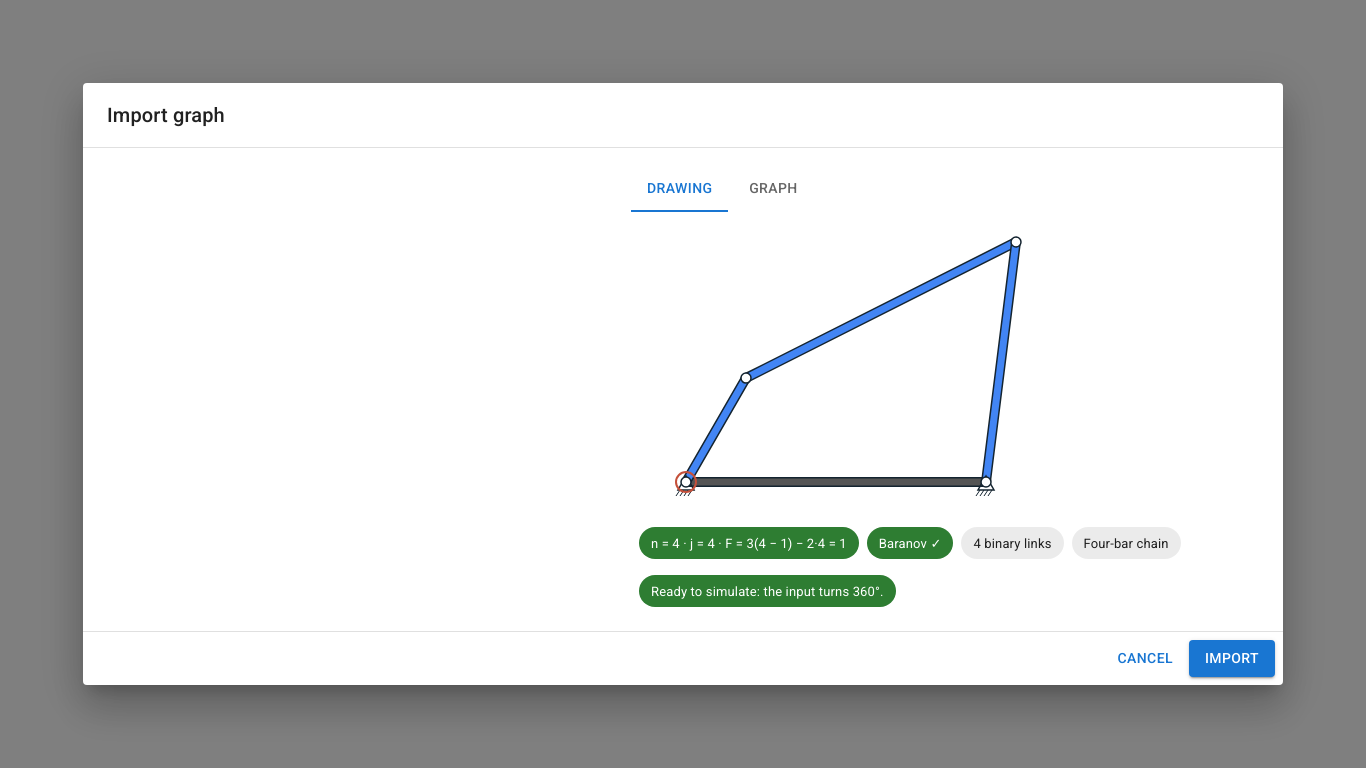
Scenario: ImportDialog › previews a positioned four-bar in both tabs with no warnings
Expected: the element with test id "import-preview-drawing" is shown, left=631, top=212, right=1071, bottom=512
Click the tab with test id "import-tab-graph".
click(773, 188)  # box left=728, top=164, right=818, bottom=212
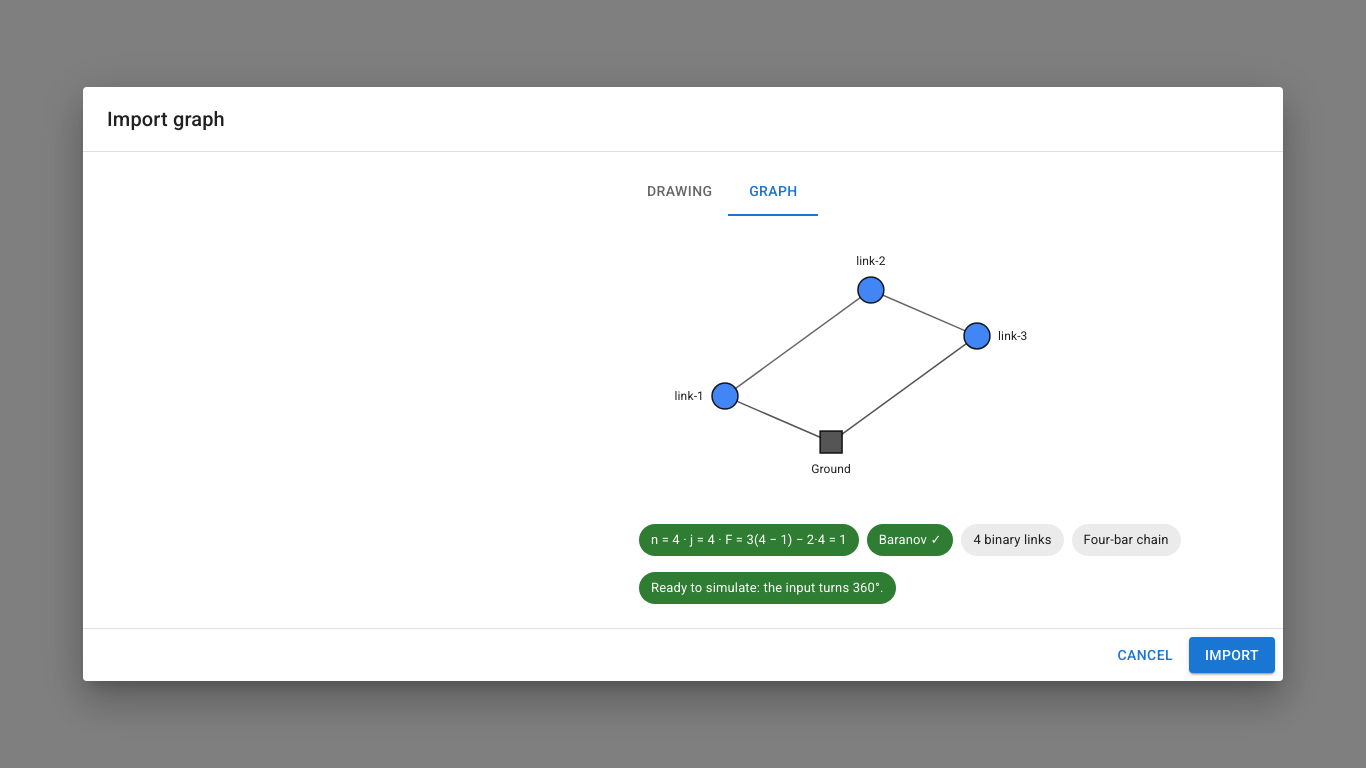
Expected: the button with test id "import-commit" is enabled, left=1189, top=637, right=1275, bottom=673
Result: the element with test id "import-preview-graph" is shown at left=631, top=216, right=1071, bottom=516
